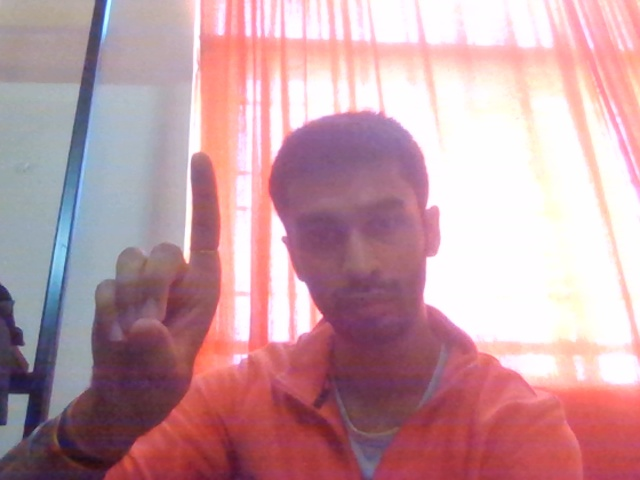D: (67, 132, 241, 448)
